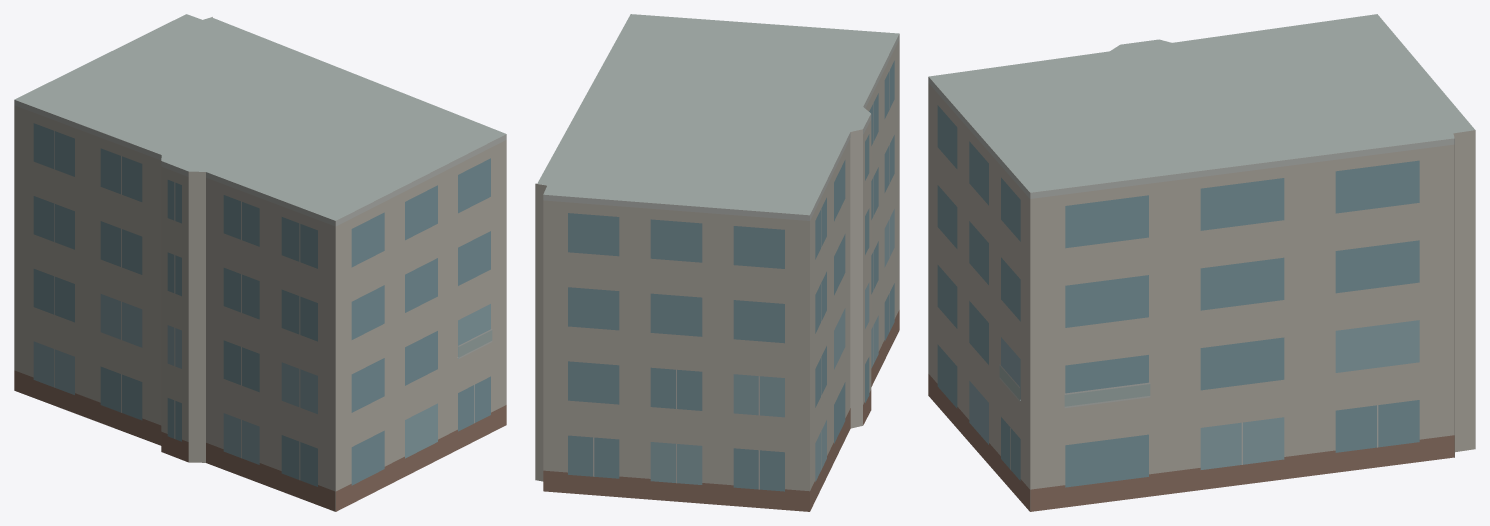
File: survey-upis-32953917.glb
3 views of the same model, side by side, from view 1: azimuth 30°, elevation 25°; view 2: azimuth 150°, elevation 25°; view 3: azimuth 270°, elevation 25° (orthographic). The views are drawn at different scales.
Visible parts, largest first — view 1: survey-upis-32953917.tmp; view 2: survey-upis-32953917.tmp; view 3: survey-upis-32953917.tmp.
Boxes of the visible parts, x1,y1,x2,y2 form: survey-upis-32953917.tmp: (14,14,506,511); survey-upis-32953917.tmp: (535,14,899,511); survey-upis-32953917.tmp: (928,14,1475,511).
Size of the model in its own units: 15.15 by 12.6 by 19.59.
